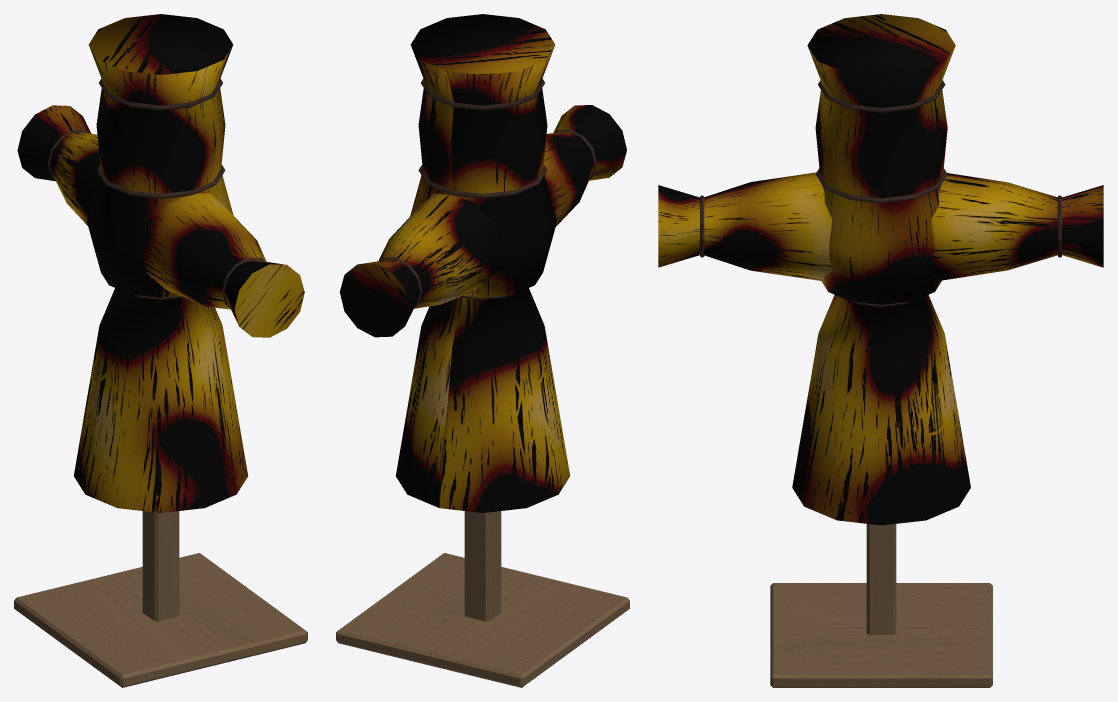
The model's file is StrawDoll_Burn.fbx.
3 renders of one model, left to right at view 1: azimuth 30°, elevation 25°; view 2: azimuth 150°, elevation 25°; view 3: azimuth 270°, elevation 25°, orthographic. The views are drawn at different scales.
Visible parts, largest first — view 1: StrawDoll_Brun; view 2: StrawDoll_Brun; view 3: StrawDoll_Brun.
Boxes of the visible parts, x1=… form: StrawDoll_Brun: x1=14, y1=14, x2=307, y2=687; StrawDoll_Brun: x1=336, y1=14, x2=629, y2=687; StrawDoll_Brun: x1=658, y1=14, x2=1103, y2=687.
Bounding box in the file's own units: 75 × 222 × 150.
